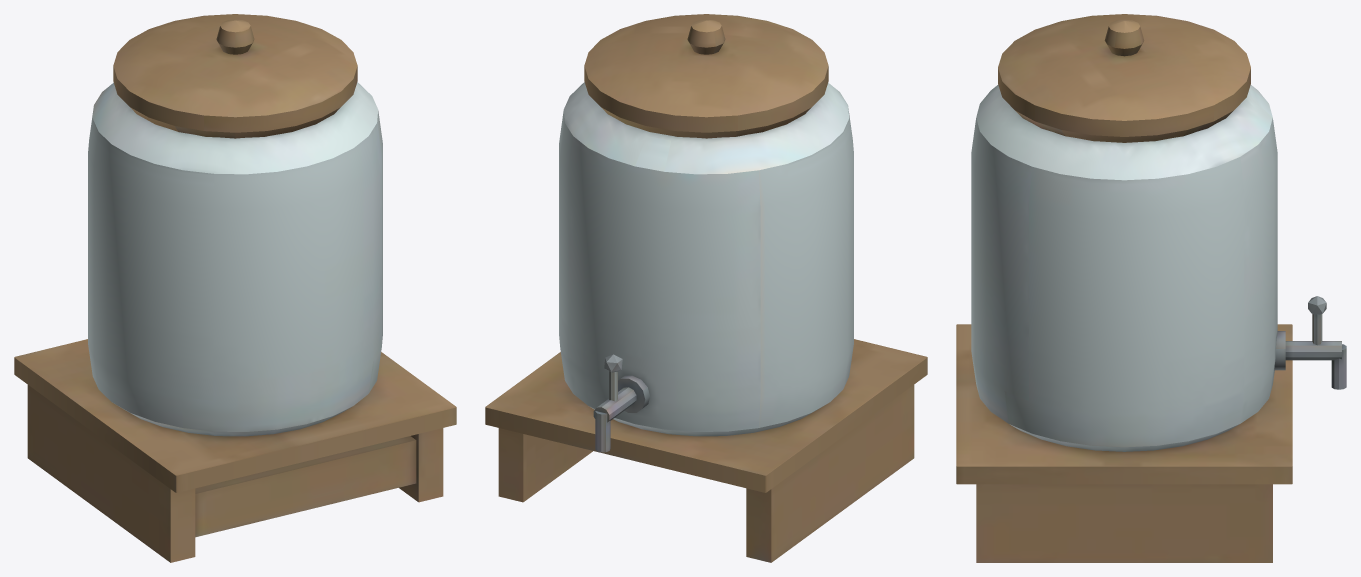
File: drink_dispenser.glb
3 renders of one model, left to right at view 1: azimuth 30°, elevation 25°; view 2: azimuth 150°, elevation 25°; view 3: azimuth 270°, elevation 25°, orthographic. The views are drawn at different scales.
Parts seen in each view (by area): view 1: drink_dispenser; view 2: drink_dispenser; view 3: drink_dispenser.
Part boxes in pixels (box(x1,y1,x2,y2)): drink_dispenser: box(14, 14, 456, 562); drink_dispenser: box(485, 14, 927, 562); drink_dispenser: box(956, 14, 1346, 562).
Size of the model in its own units: 0.34 by 0.528 by 0.3946.
Materials: 1 (1 with a texture image).
